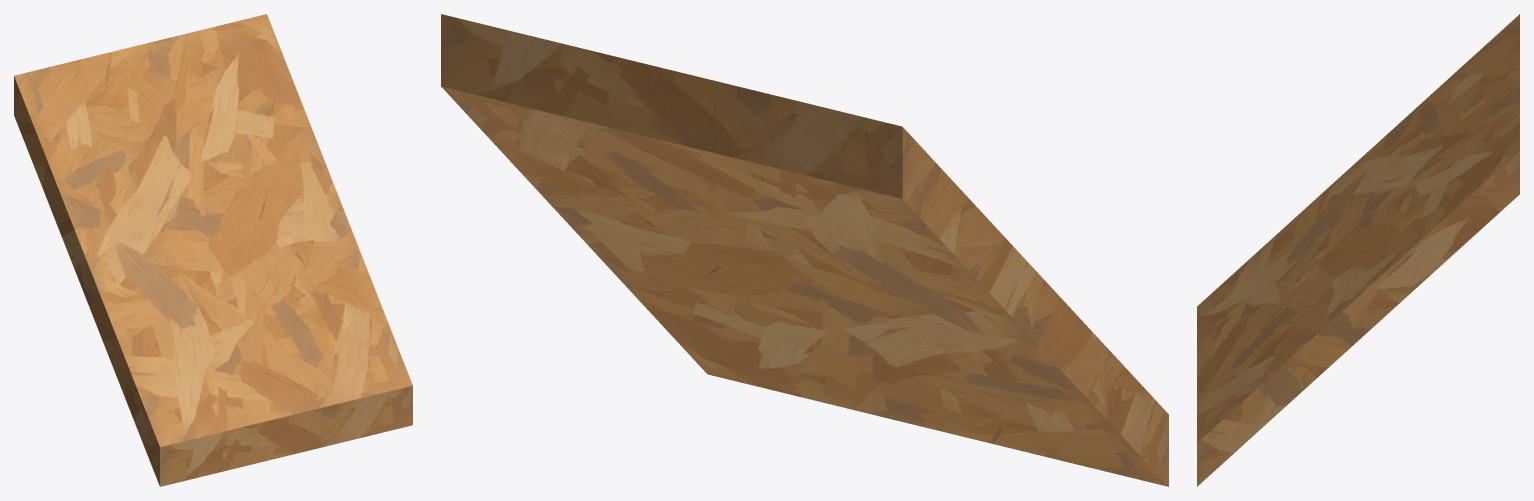
The model's file is RoofSlope45.fbx.
3 views of the same model, side by side, from view 1: azimuth 30°, elevation 25°; view 2: azimuth 150°, elevation 25°; view 3: azimuth 270°, elevation 25° (orthographic). The views are drawn at different scales.
Parts seen in each view (by area): view 1: mdl_block_roof_slope_45; view 2: mdl_block_roof_slope_45; view 3: mdl_block_roof_slope_45.
Boxes of the visible parts, <box> form: mdl_block_roof_slope_45: <box>14,14,412,486</box>; mdl_block_roof_slope_45: <box>441,14,1168,486</box>; mdl_block_roof_slope_45: <box>1197,14,1519,486</box>.
Bounding box in the file's own units: 1 × 1.15 × 1.
